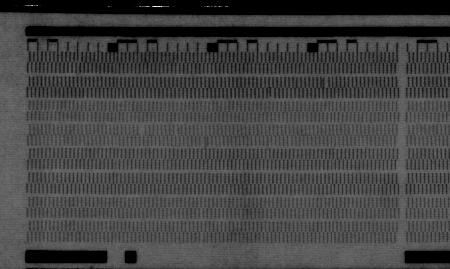Broken hole: (136, 124, 148, 136)
Oblique printing: (318, 77, 331, 90), (265, 88, 278, 100), (198, 135, 210, 148)
